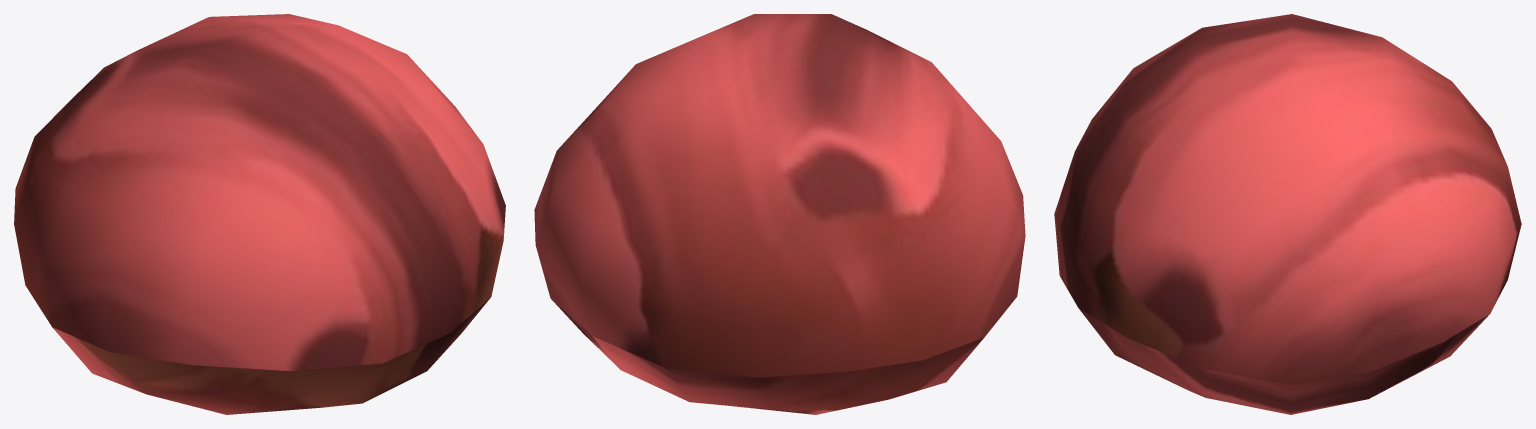
The model's file is softcoral-07.glb.
3 views of the same model, side by side, from view 1: azimuth 30°, elevation 25°; view 2: azimuth 150°, elevation 25°; view 3: azimuth 270°, elevation 25° (orthographic). The views are drawn at different scales.
Visible parts, largest first — view 1: coral15; view 2: coral15; view 3: coral15.
Part boxes in pixels (x1=…): coral15: x1=14, y1=14, x2=505, y2=414; coral15: x1=534, y1=14, x2=1025, y2=414; coral15: x1=1054, y1=14, x2=1521, y2=414.
Bounding box in the file's own units: 1.34 × 1.04 × 1.32.
1 material, 1 textured.
